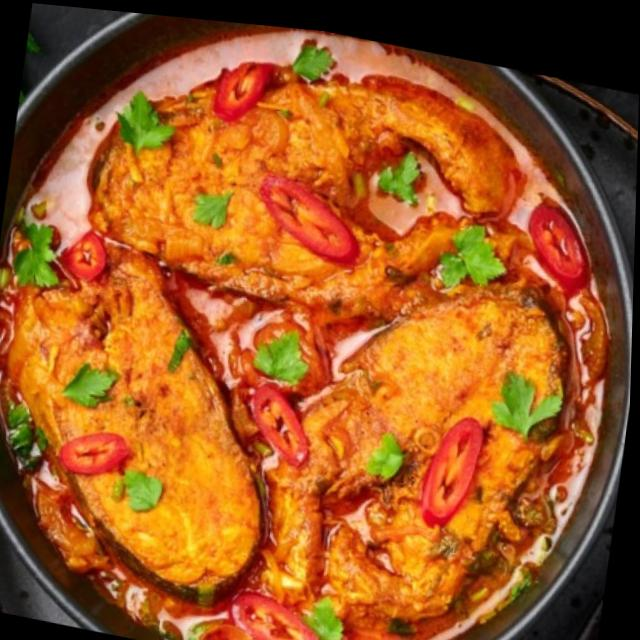FISH CURRY: (0, 30, 607, 640)
